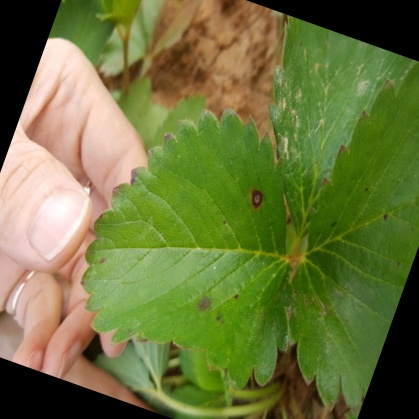Leaf_Spot: (104, 105, 331, 369), (301, 0, 418, 361)
